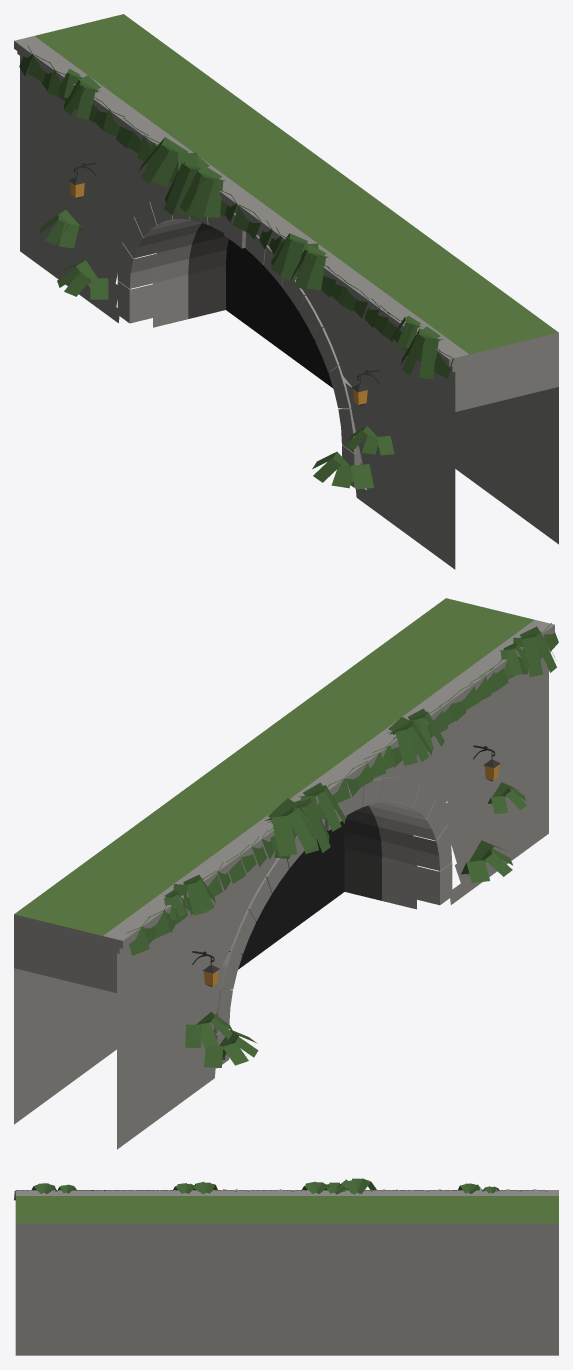
Rendered from road_tunnel_portal.glb.
3 renders of one model, top to bottom at view 1: azimuth 30°, elevation 25°; view 2: azimuth 150°, elevation 25°; view 3: azimuth 270°, elevation 25°, orthographic. The views are drawn at different scales.
Parts seen in each view (by area): view 1: road_tunnel_portal_lod0; view 2: road_tunnel_portal_lod0; view 3: road_tunnel_portal_lod0.
Part boxes in pixels (x1,y1,x2,y2): road_tunnel_portal_lod0: [14, 14, 558, 569]; road_tunnel_portal_lod0: [14, 598, 558, 1149]; road_tunnel_portal_lod0: [14, 1178, 558, 1355].
Size of what is drawn, in the model's own units: 3.23 by 4.58 by 16.05.
